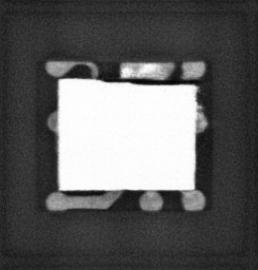DIE_BROKEN: (97, 75, 201, 89)
